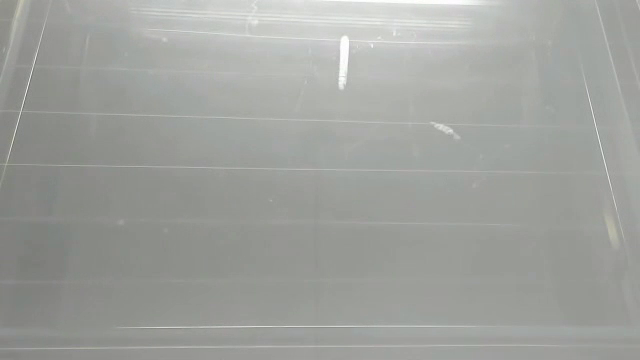alpha: (333, 33, 357, 93), (425, 118, 466, 144)
